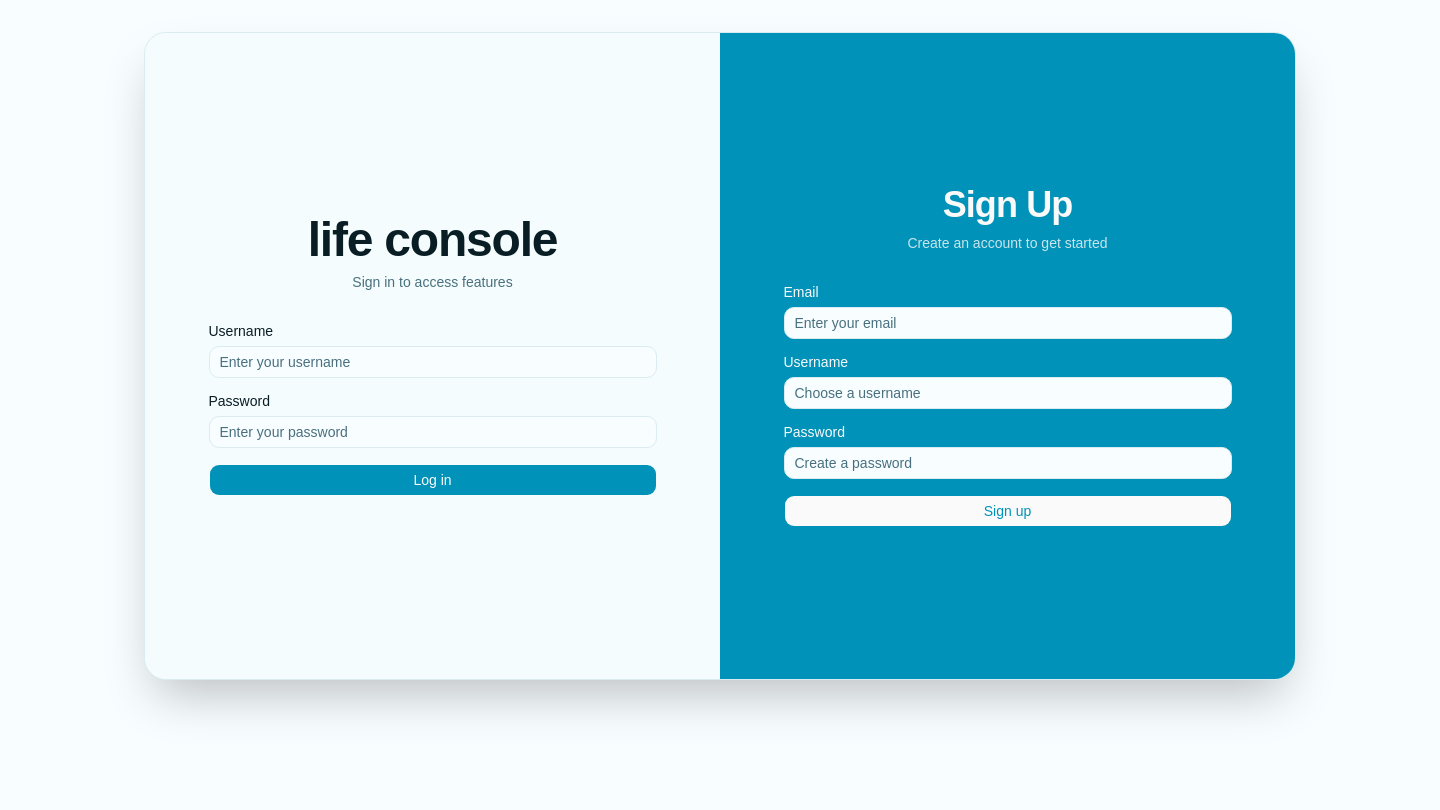
Test: LoginPage › shows signup errors
Type "ada@example.com" into the field labelled "Email".
click(1008, 323); type("ada@example.com")  # box [784,307,1232,339]
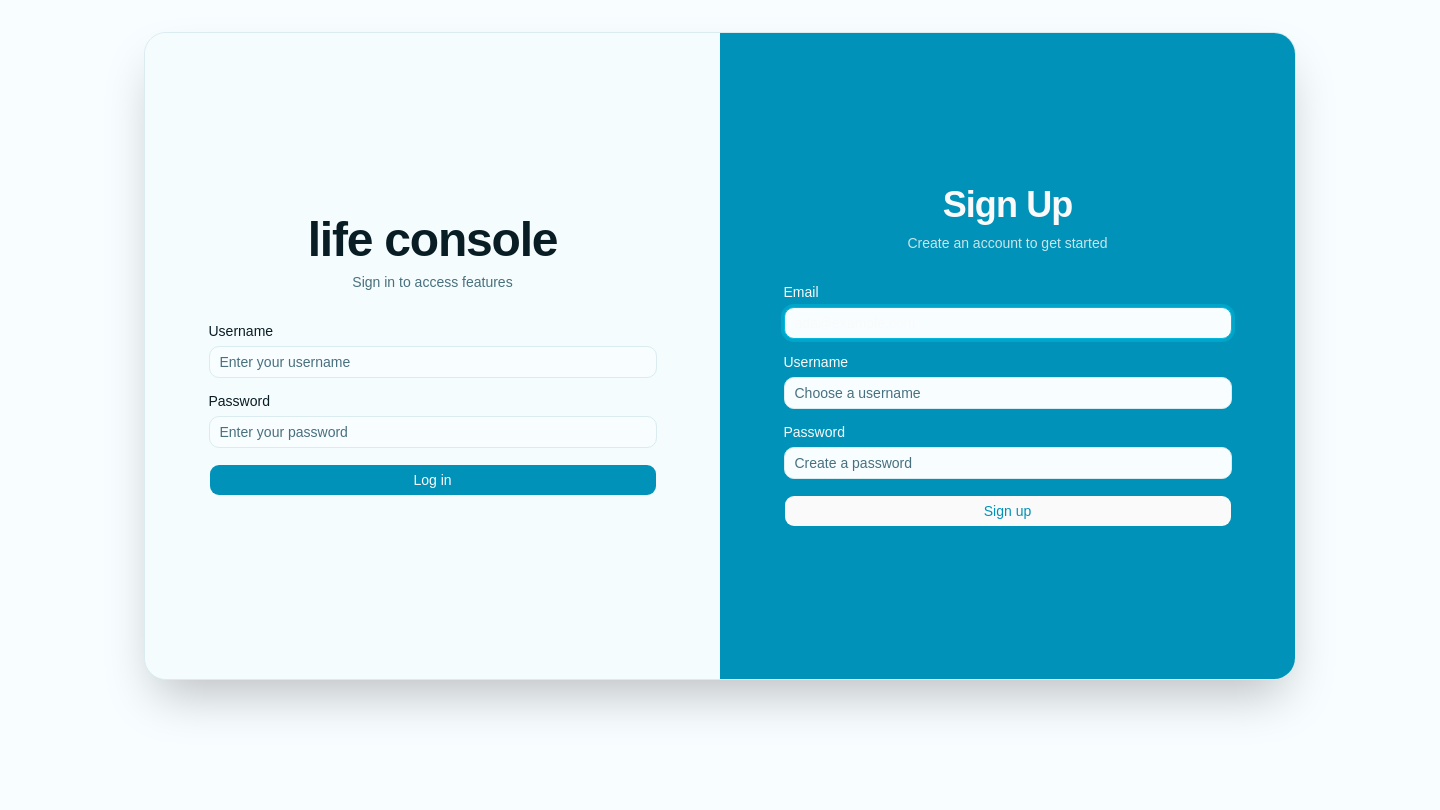
Type "ada" into the field labelled "Username" below "Email".
click(1008, 393); type("ada")  # box [784,377,1232,409]
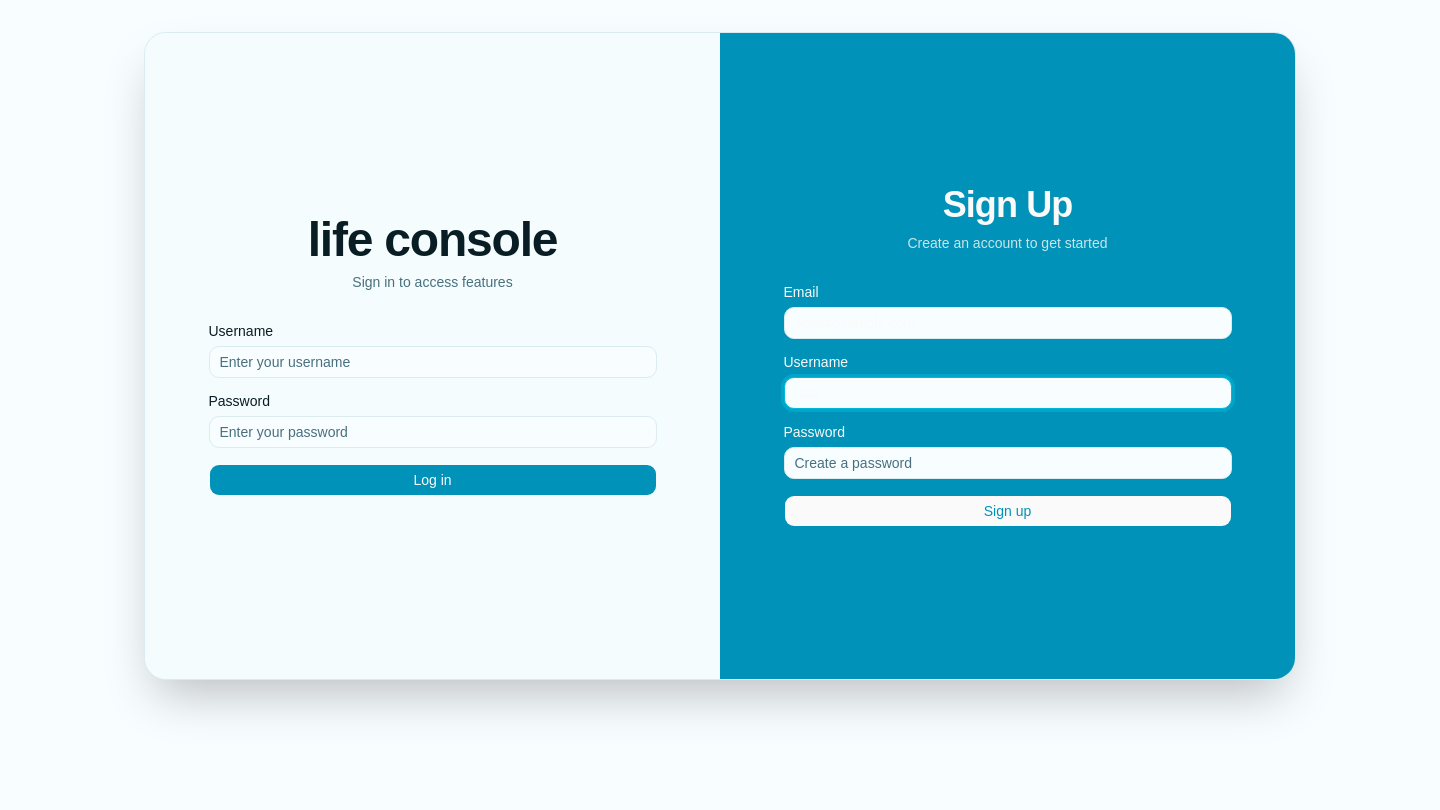
Type "wrongpassword" into the password field labelled "Password" below "Email".
click(1008, 463); type("wrongpassword")  # box [784,447,1232,479]
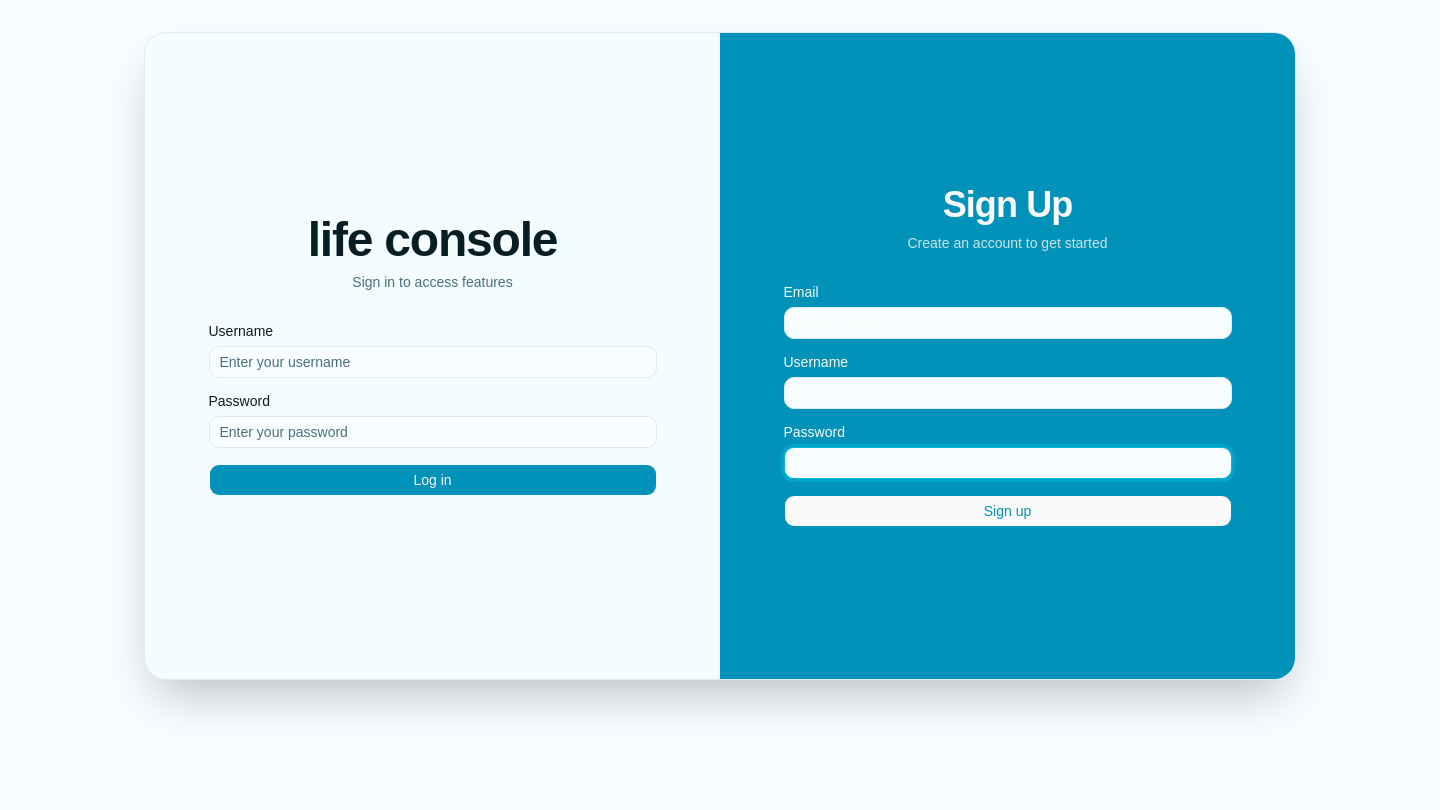
Click the button "Sign up".
click(1008, 511)  # box [784,495,1232,527]
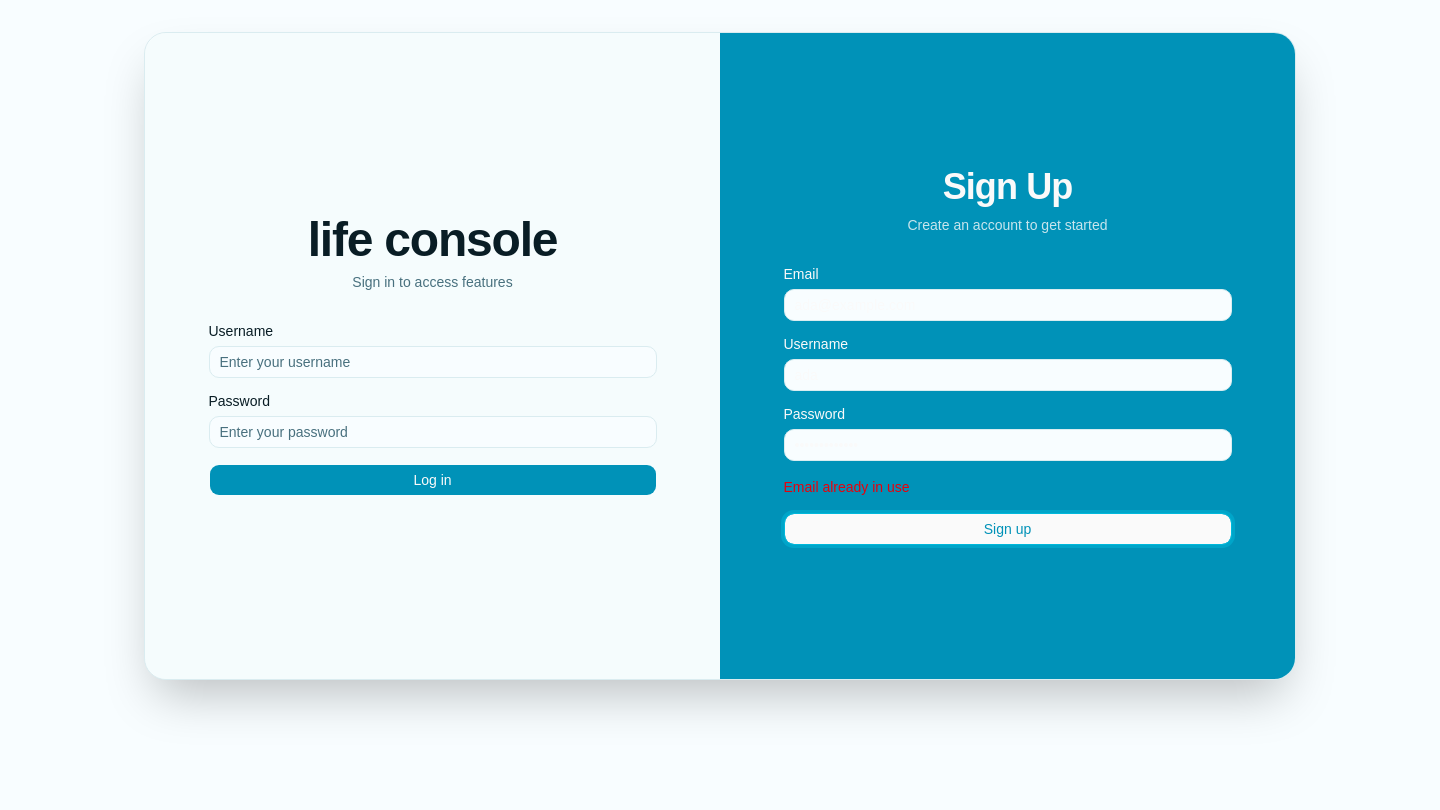
Expected: the text "Email already in use" is shown, [784,479,910,495]
